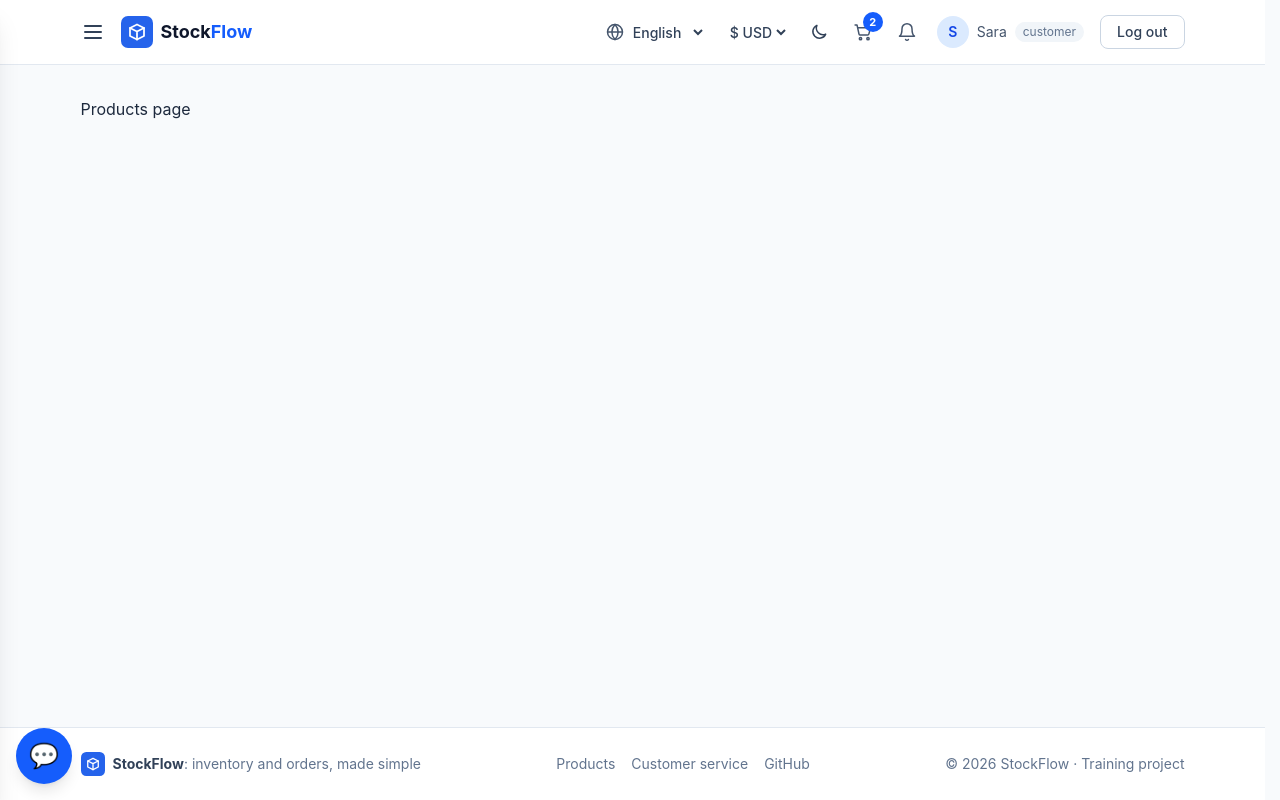
Test: the page links are in the ☰ menu; a link opens its page and closes the menu
Click the button named "Menu". click: (92, 32)
box: [72,12,112,52]
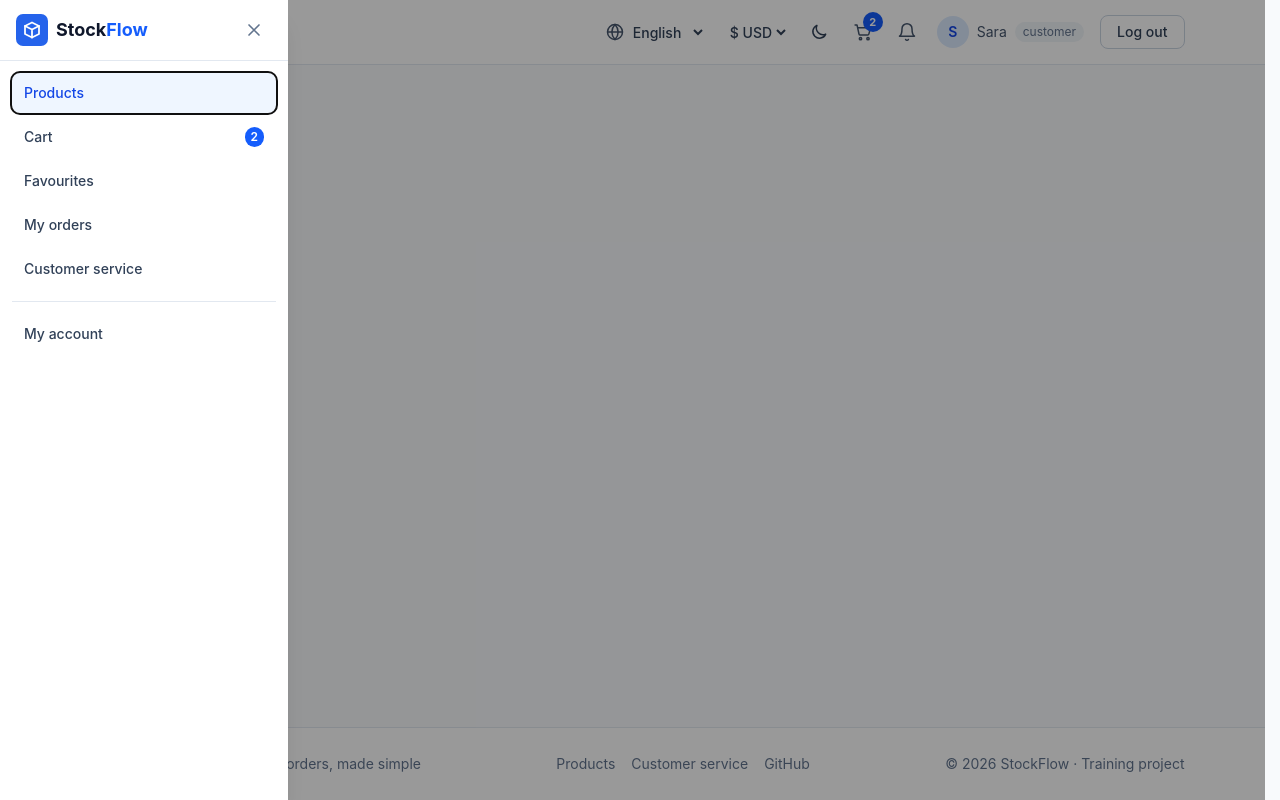
Expected: the link "Products" is shown, [12,73,276,113]
Result: the button named "Menu" is expanded at [72,12,112,52]
Click the link "My orders". click: (58, 224)
box: [24,216,92,233]
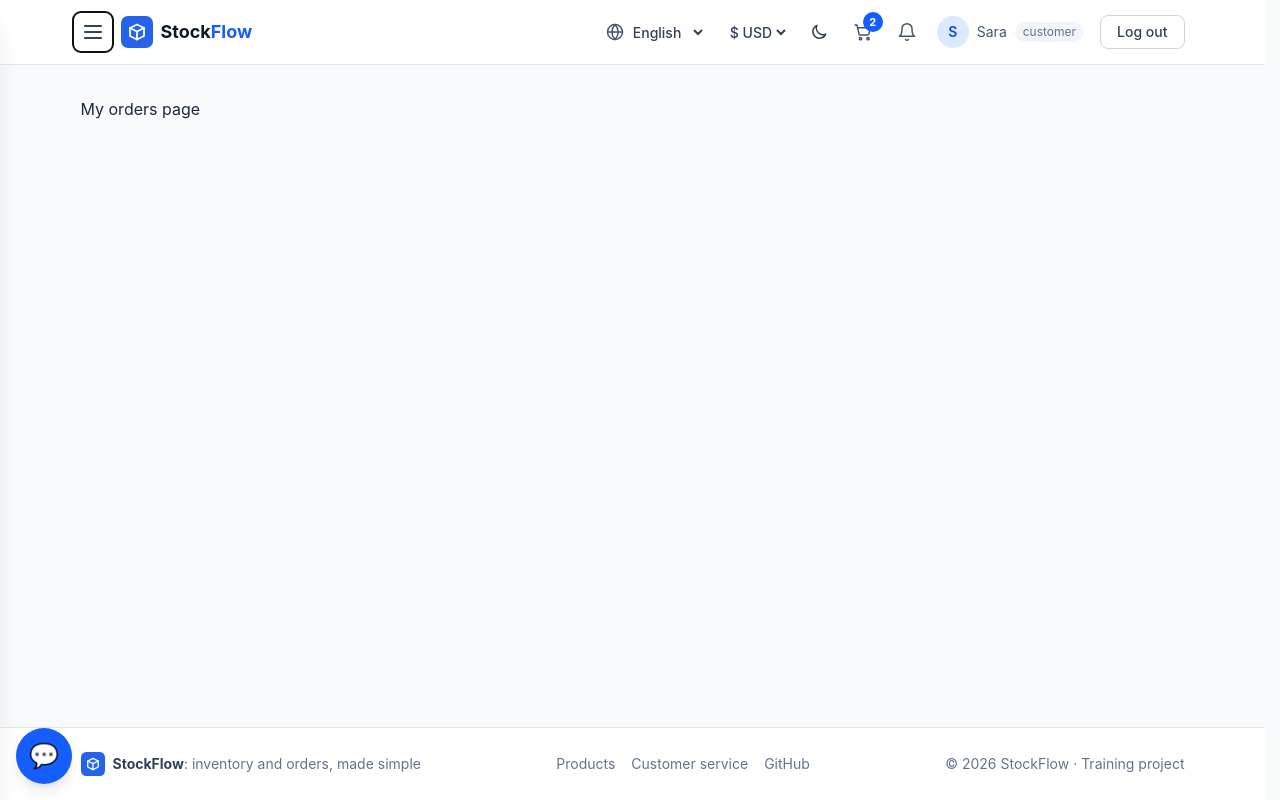
Result: the text "My orders page" is shown at [80,99,200,119]
Result: the button named "Menu" is collapsed at [72,12,112,52]
